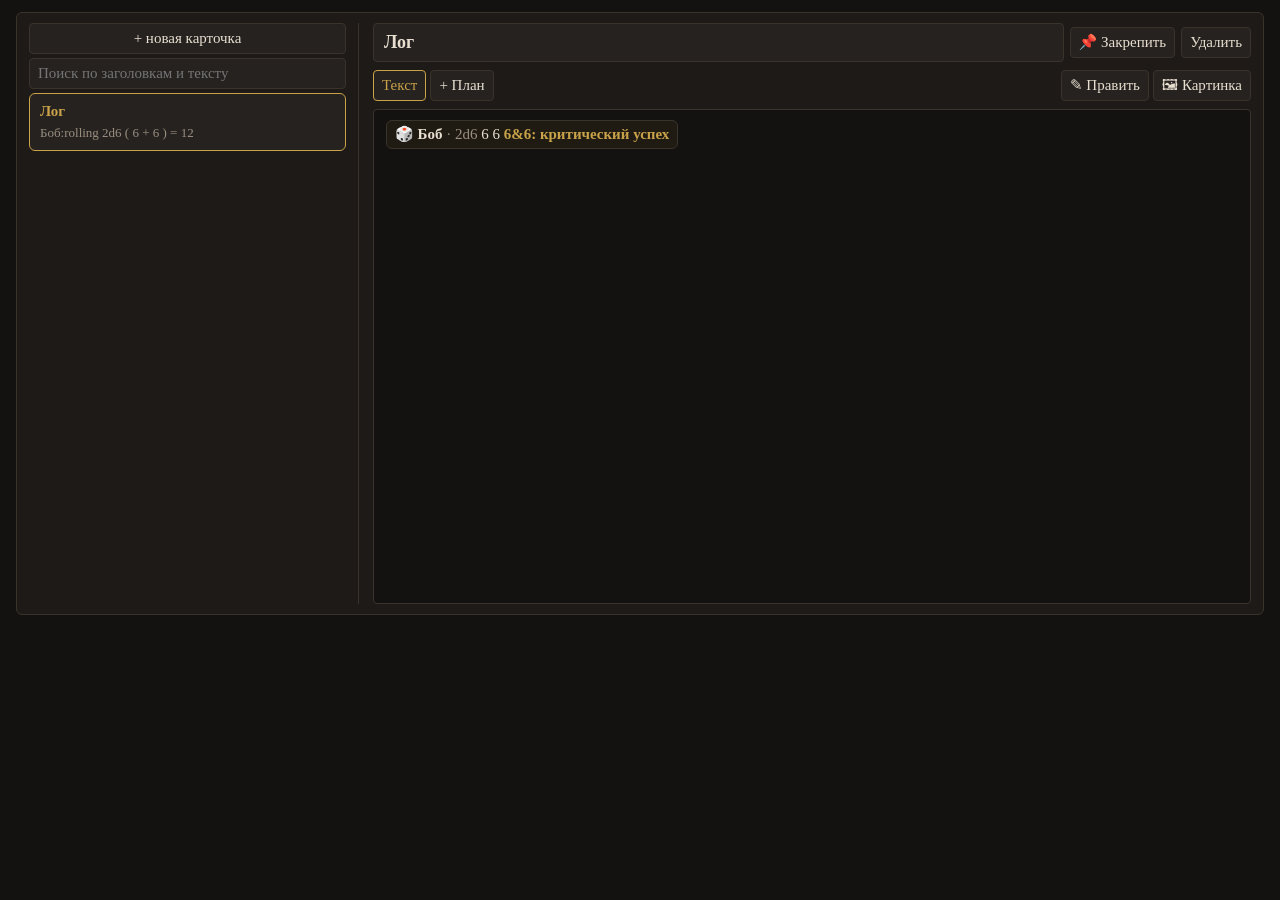
Scenario: Notes tab › shows the rendered view of a chat roll and lets you edit it
Expected: the element with class "nroll" shows "6&6", [504, 126, 669, 142]
Double-click the element with test id "card-view" at (812, 357), box [373, 109, 1251, 604]
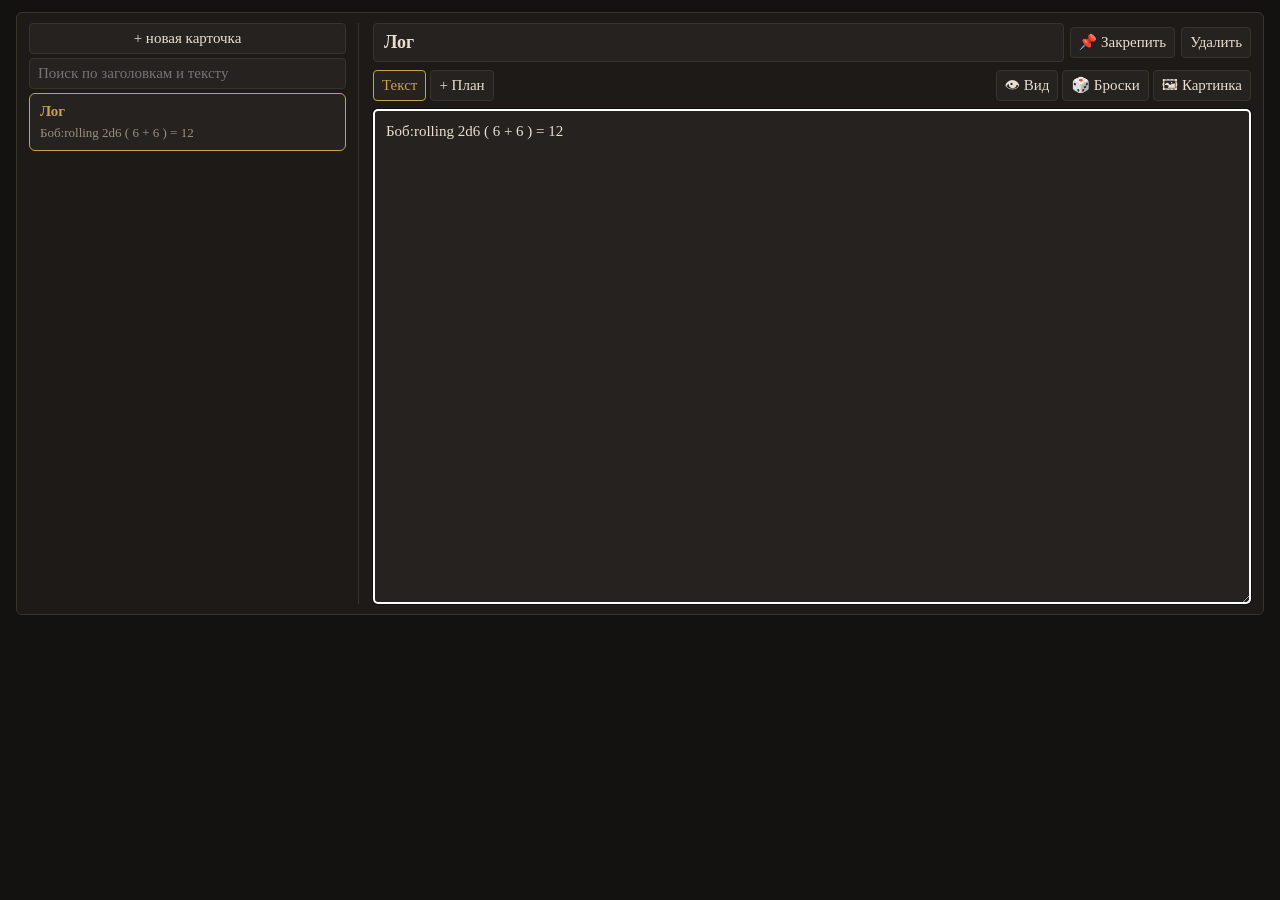
Now the text box with test id "card-text" is shown, box [373, 109, 1251, 604]
